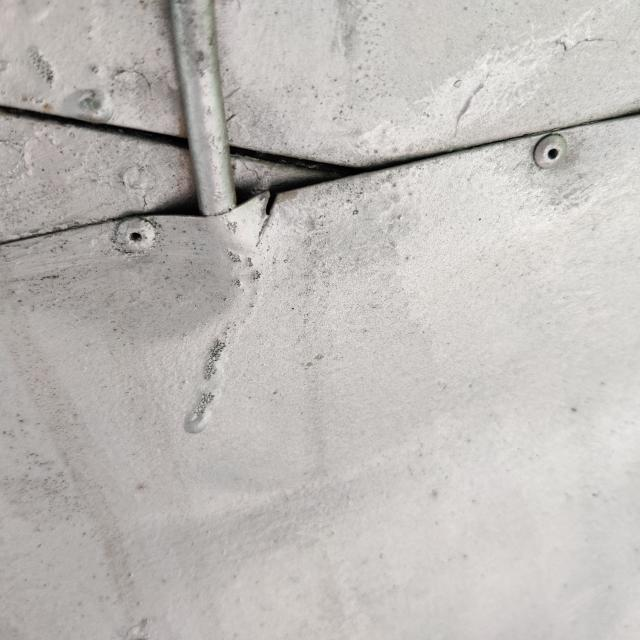crack: (243, 175, 299, 243)
